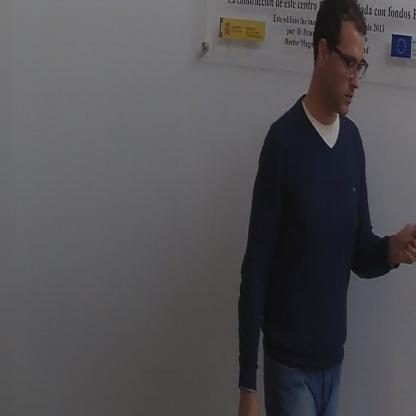knife: (404, 182, 415, 261)
